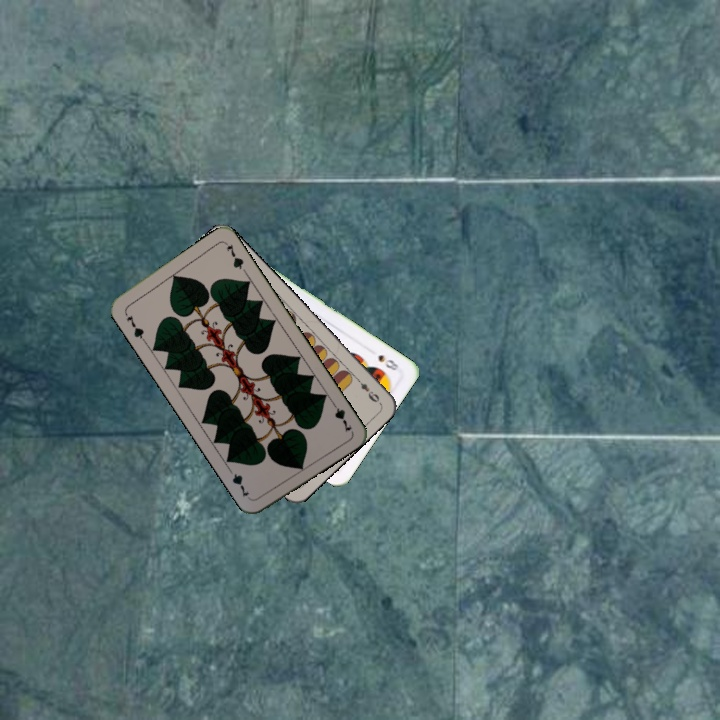E9: (351, 373, 382, 405)
G7: (327, 397, 355, 435), (121, 307, 148, 344)
S8: (374, 350, 401, 373)
